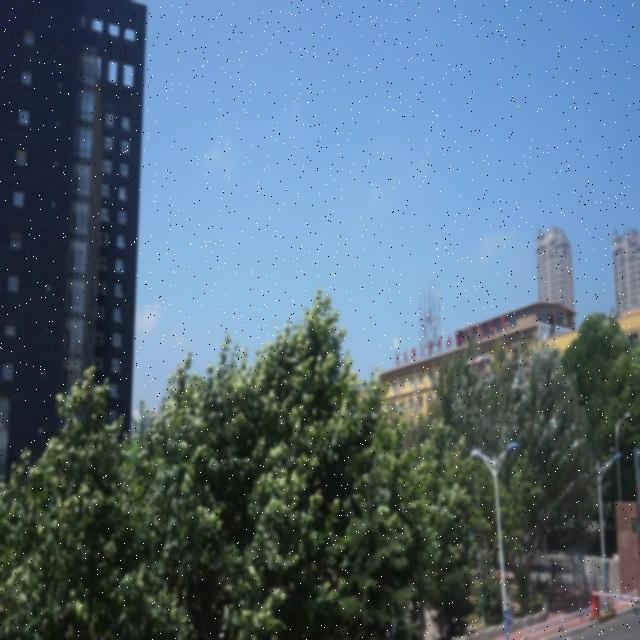UAV: (465, 354, 493, 374)
